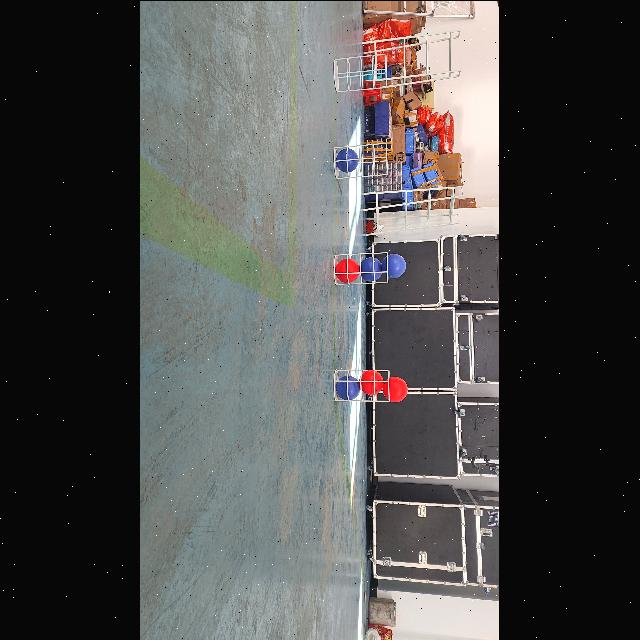B: (382, 252, 408, 278), (361, 256, 385, 282), (336, 376, 360, 398), (336, 147, 358, 171)
R: (384, 375, 408, 401), (360, 370, 384, 394), (336, 257, 360, 281)
S: (332, 50, 391, 94), (332, 138, 390, 180), (331, 366, 395, 404), (332, 248, 392, 288)
